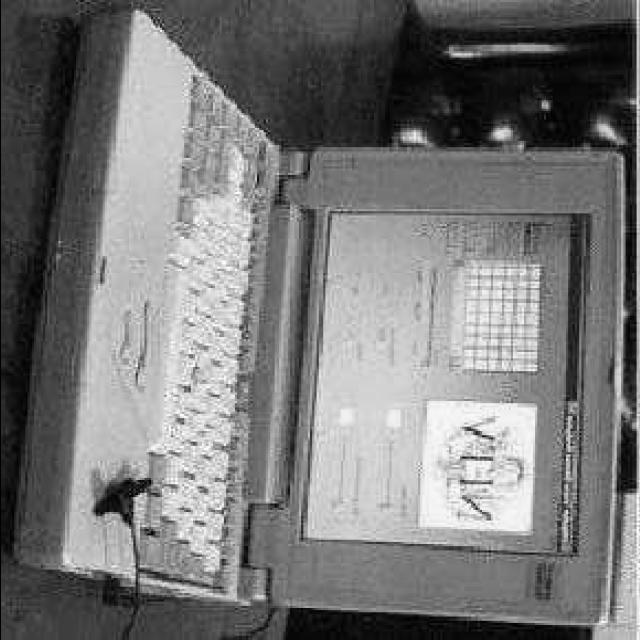laptop: (4, 145, 622, 615)
